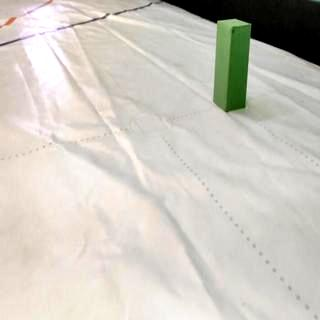greenbox: (213, 17, 251, 114)
